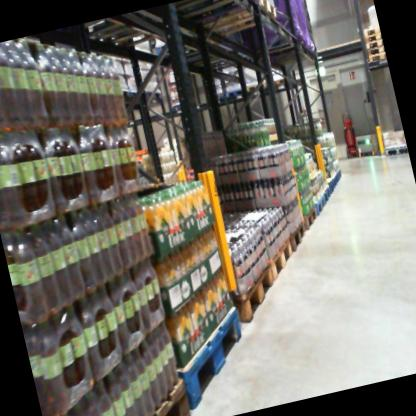pallet: (164, 293, 264, 416), (219, 263, 285, 333), (180, 0, 289, 42), (128, 377, 200, 416), (173, 0, 265, 23), (262, 238, 303, 283), (287, 218, 315, 257), (264, 70, 303, 94), (213, 83, 247, 107), (128, 79, 153, 107), (379, 139, 408, 160), (168, 97, 197, 117), (242, 78, 268, 100), (144, 82, 168, 105), (300, 207, 321, 232), (307, 194, 328, 218), (359, 22, 381, 37), (320, 186, 334, 206), (366, 52, 386, 65), (322, 181, 337, 197), (364, 32, 383, 44), (365, 39, 383, 51), (367, 45, 385, 57), (331, 173, 340, 188), (336, 169, 344, 183)
